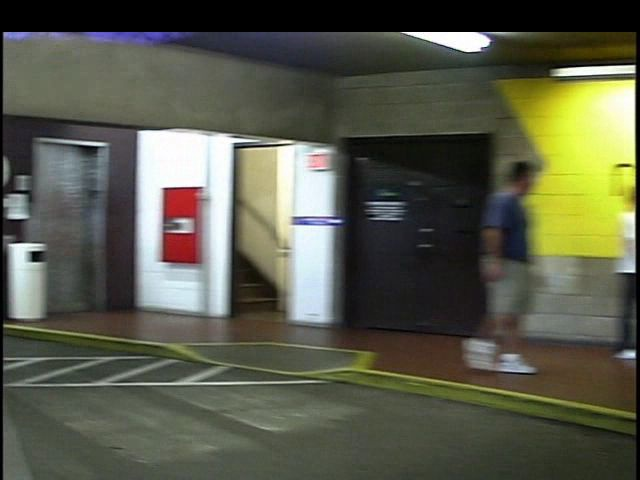person: (425, 154, 541, 379)
